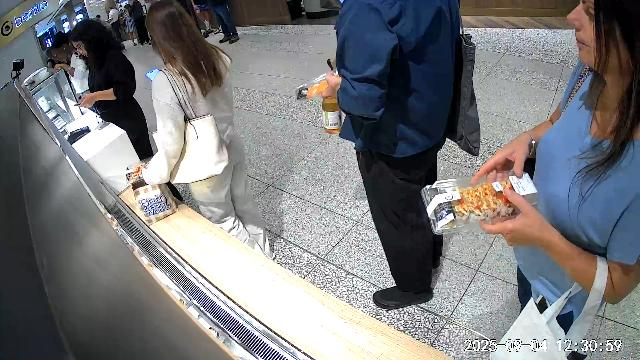sushi-box: (421, 170, 539, 235), (294, 69, 337, 102), (126, 155, 155, 186)
